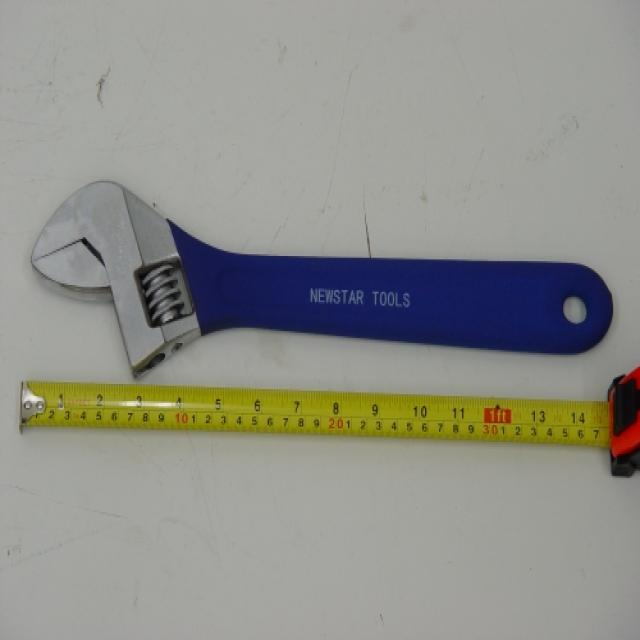wrench: (22, 155, 637, 389)
